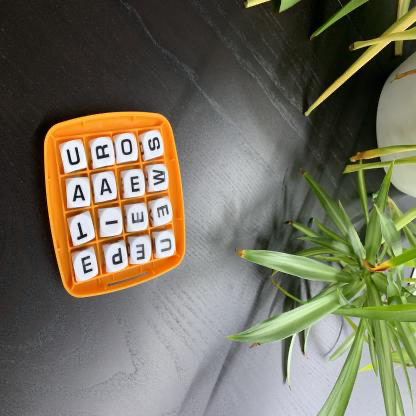a: (68, 178, 91, 207), (95, 173, 117, 202)
e: (75, 251, 98, 282), (125, 170, 146, 197), (129, 205, 149, 232), (132, 239, 152, 265), (154, 199, 173, 225)
i: (101, 208, 123, 237)
o: (117, 134, 139, 163)
p: (107, 244, 129, 272)
r: (93, 138, 115, 167)
s: (144, 131, 164, 158)
t: (71, 215, 95, 245)
u: (63, 141, 86, 172), (157, 232, 176, 259)
w: (151, 165, 169, 191)
